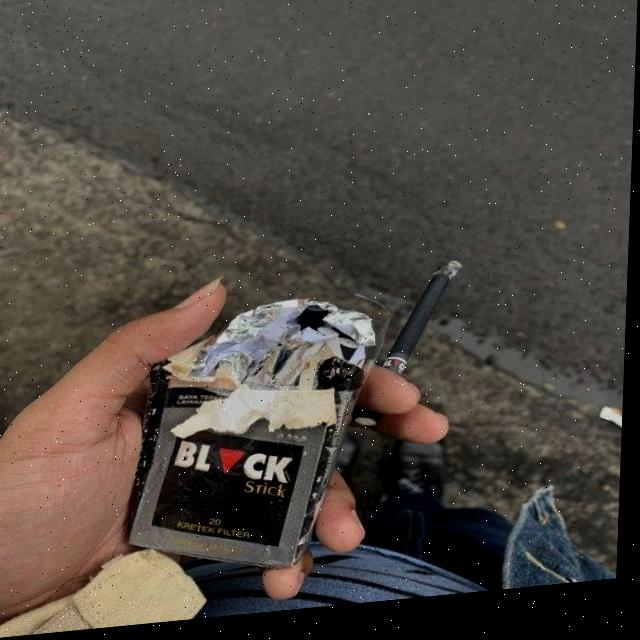cigarette: (362, 269, 464, 433)
